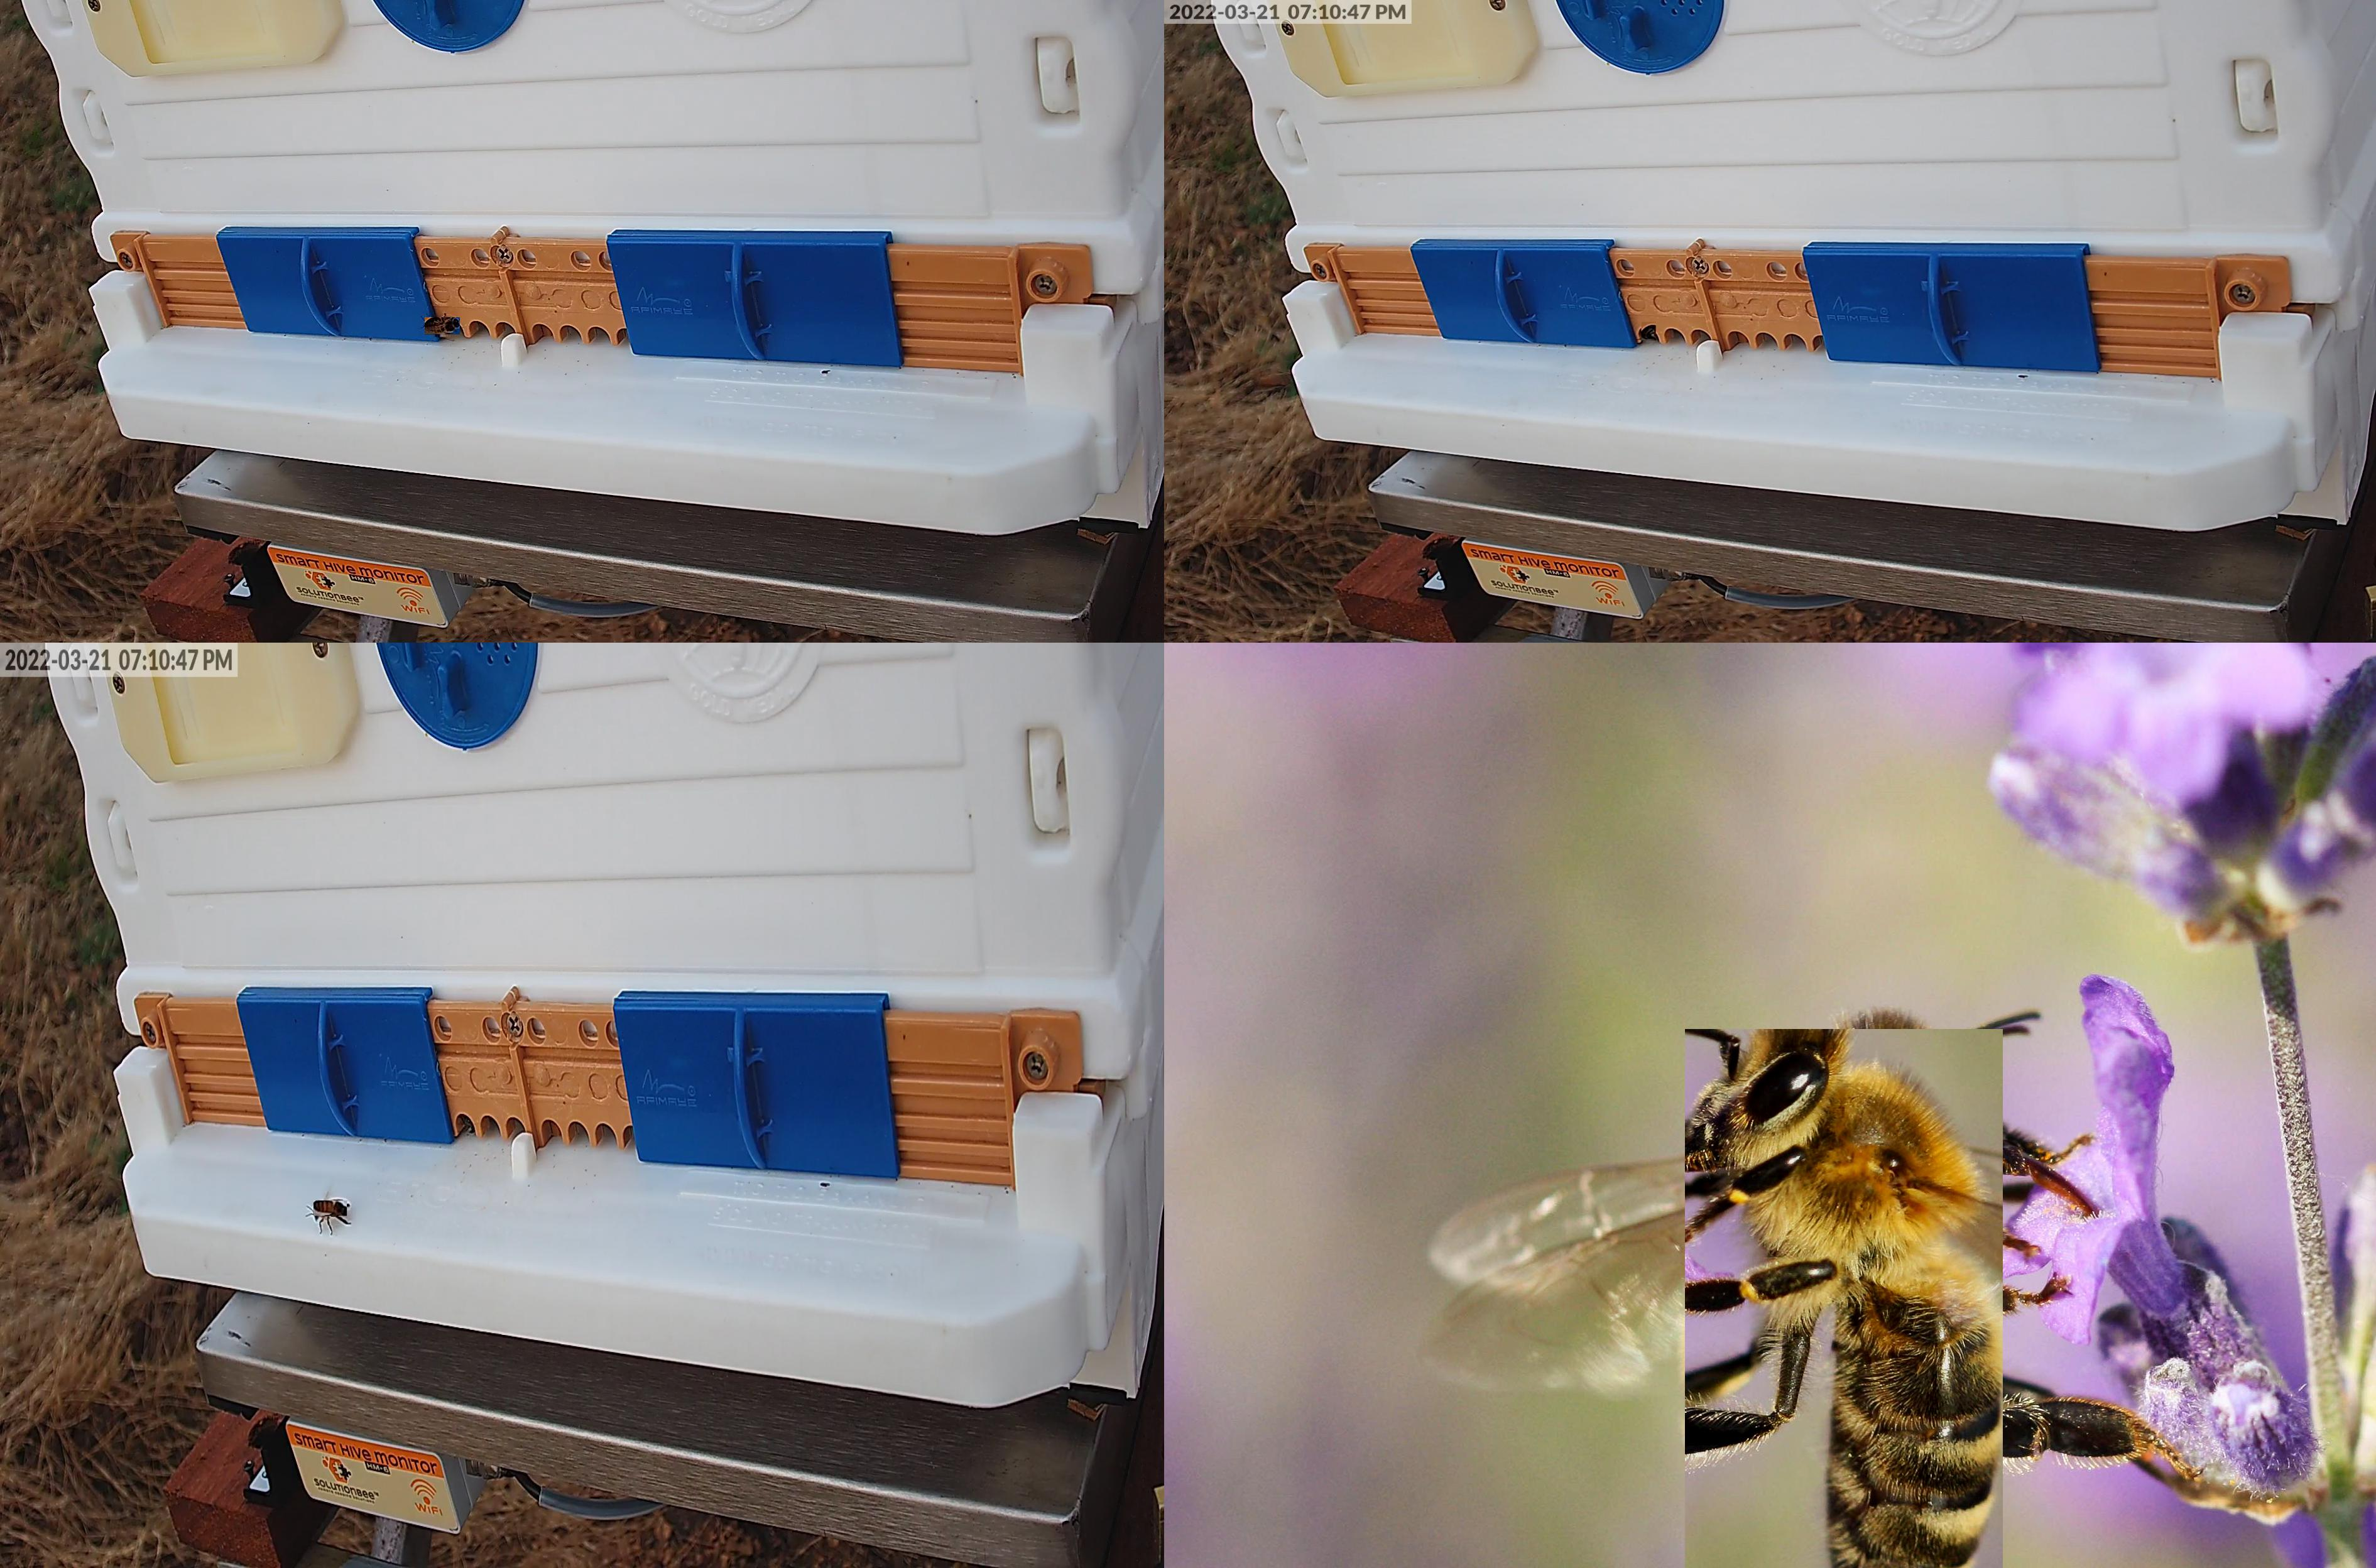bee: (1685, 1029, 2003, 1568), (425, 318, 460, 338), (315, 1200, 350, 1216), (1641, 322, 1657, 343)
